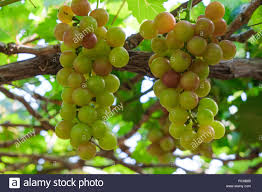grapes: (141, 15, 242, 158), (50, 4, 131, 160)
